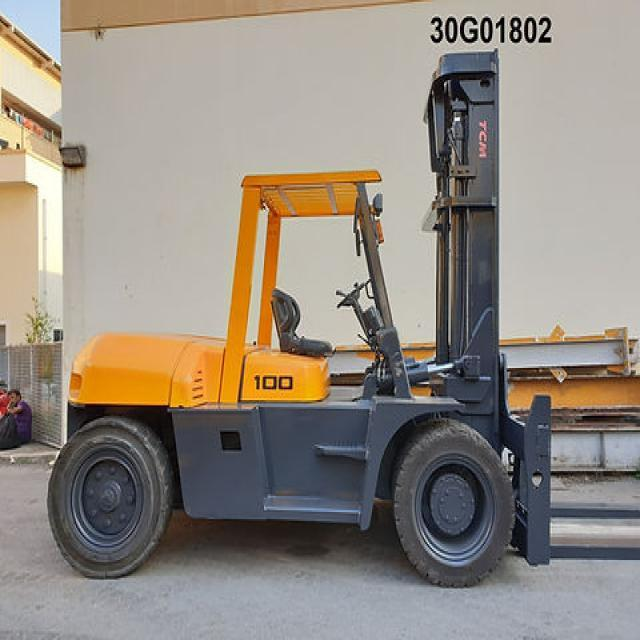forklift: (42, 46, 573, 591)
